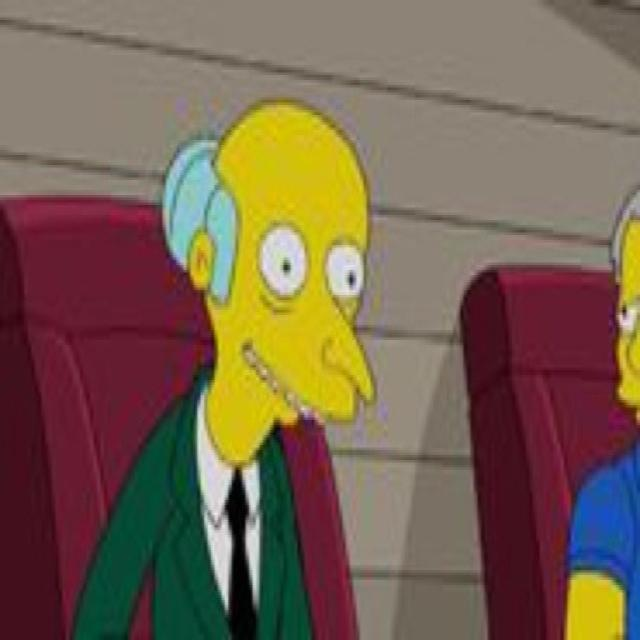Charles Montgomery Burns: (158, 101, 374, 474)
